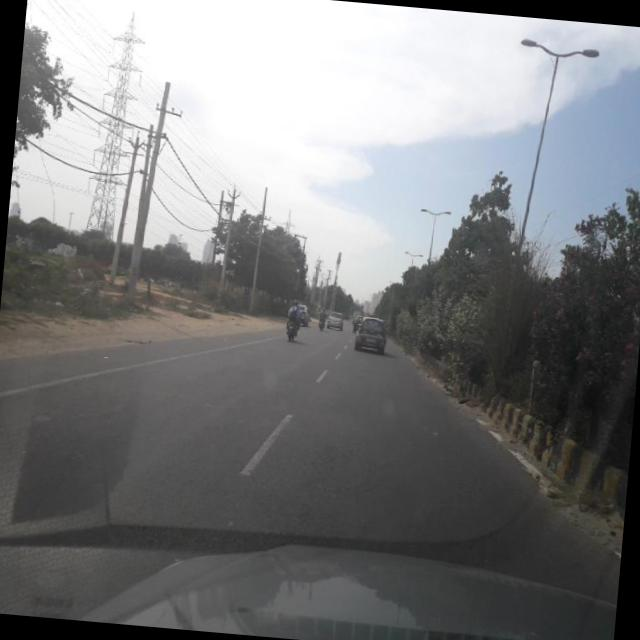crack: (178, 389, 560, 569), (0, 373, 177, 556)
